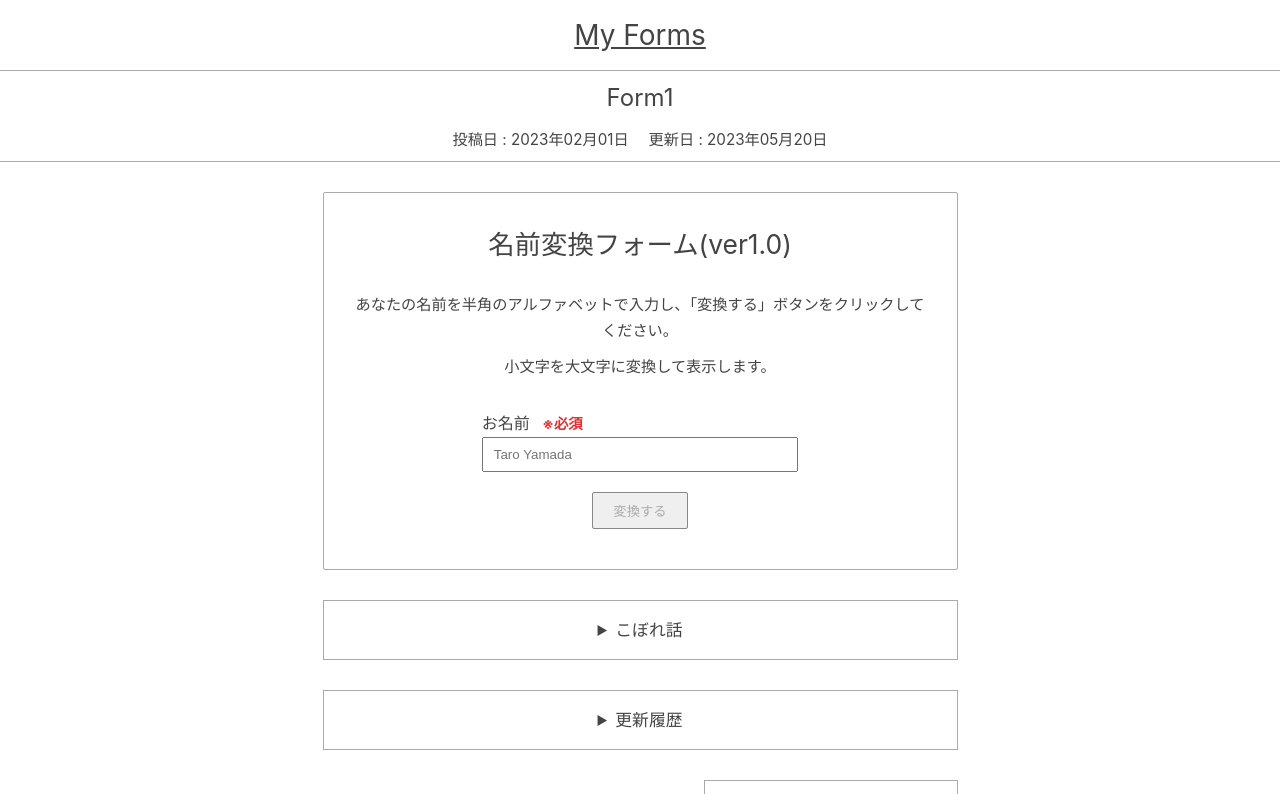
Test: Form1 › フォームを送信した時、正しい結果が得られること › フォームを送信した時、変換された名前が表示されること
In the field labelled "お名前 ※必須": [640, 454] box [482,436,798,472], type "kento"
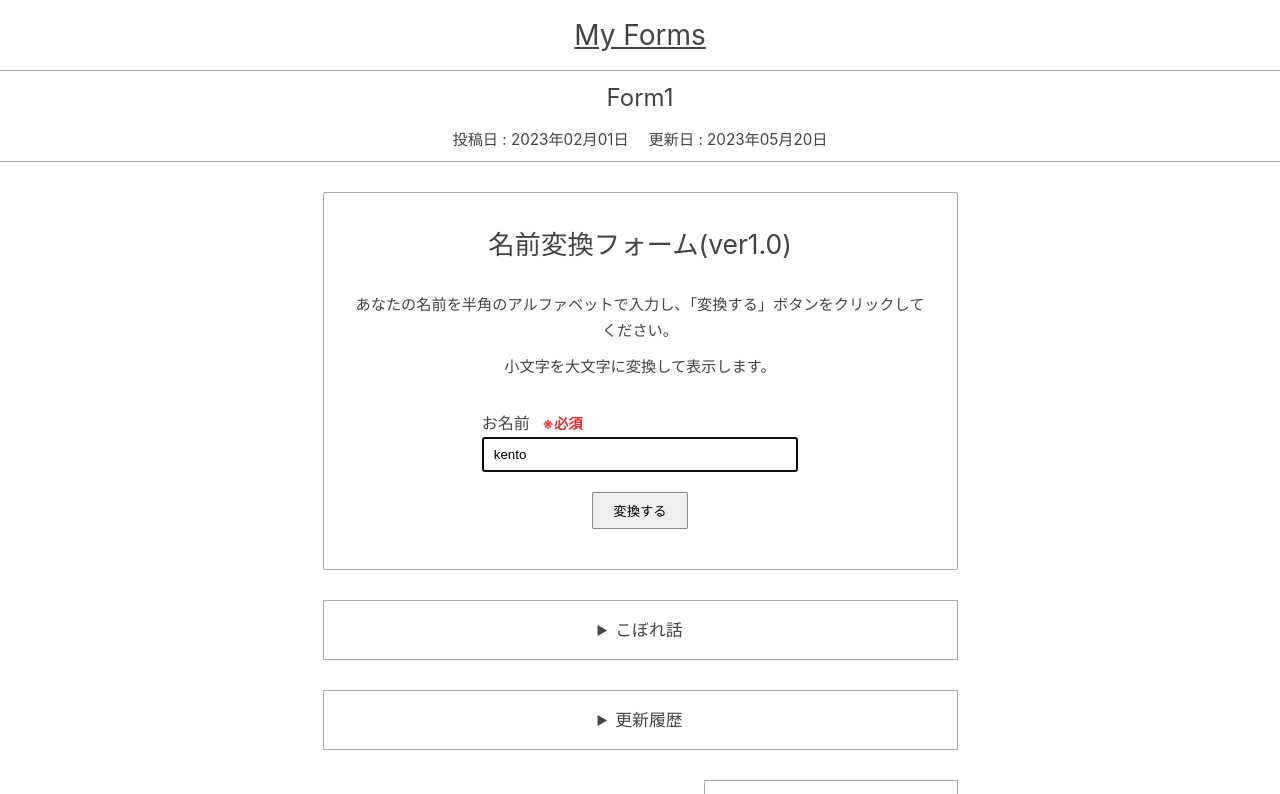
Click the button "変換する": [640, 510] box [592,492,688,528]
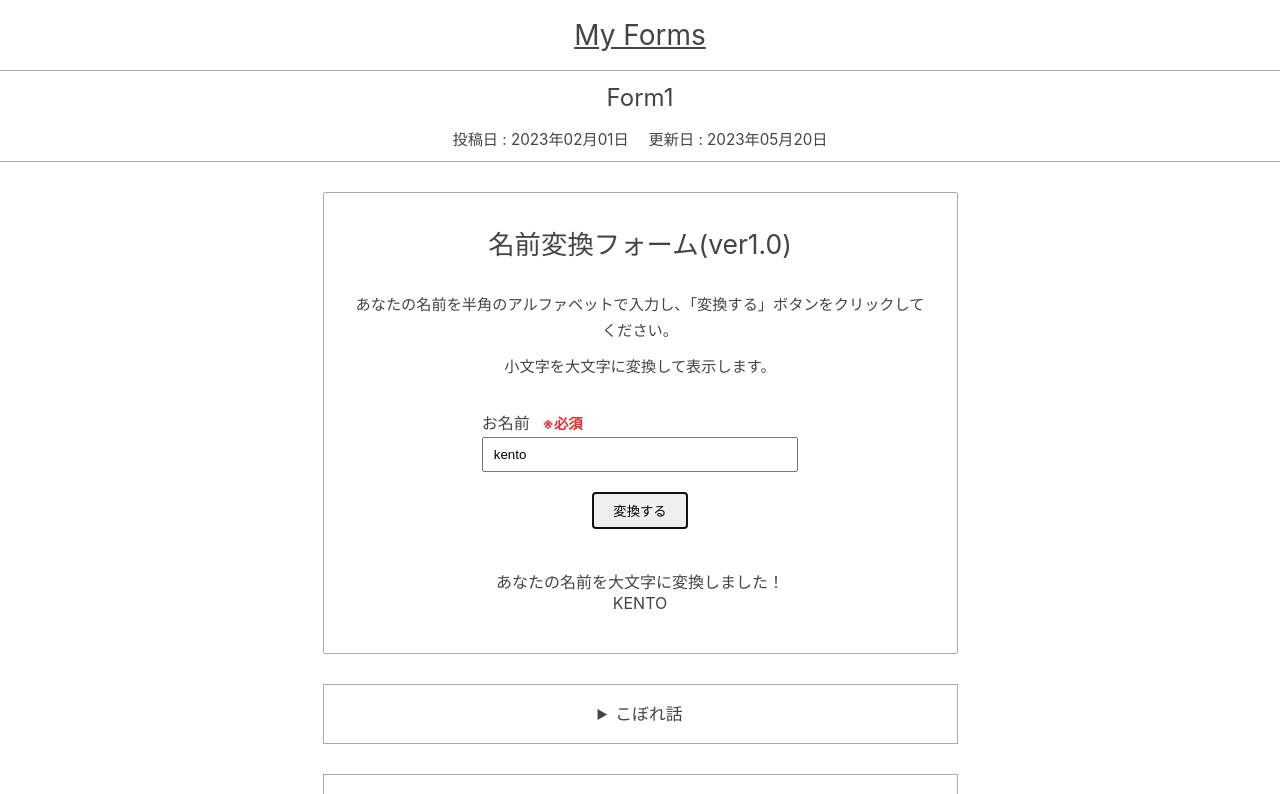
Expected: the element with test id "result-area" shows "KENTO", [613,592,667,612]
